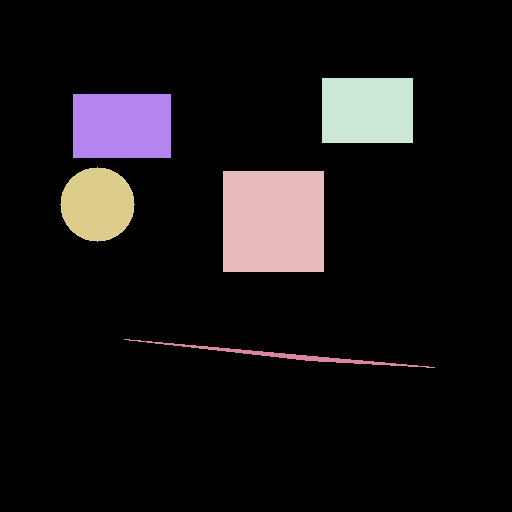circle: (60, 167, 134, 241)
rectangle: (73, 94, 170, 157), (322, 78, 412, 142)
square: (223, 171, 323, 271)
